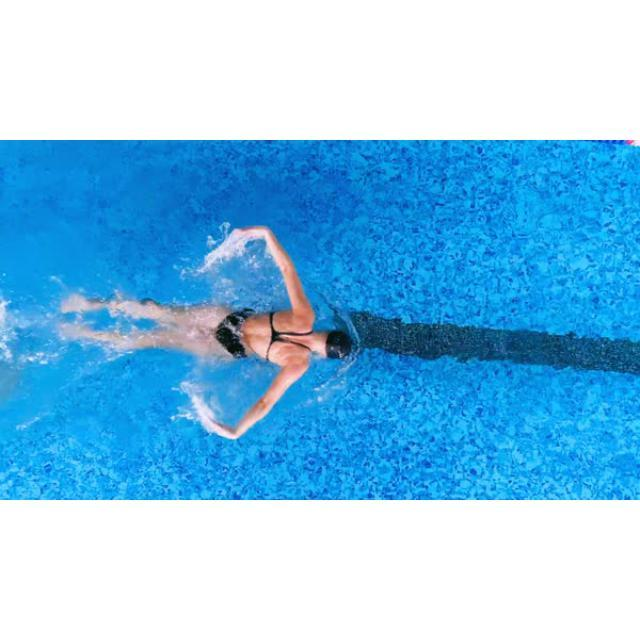human: (57, 226, 353, 440)
